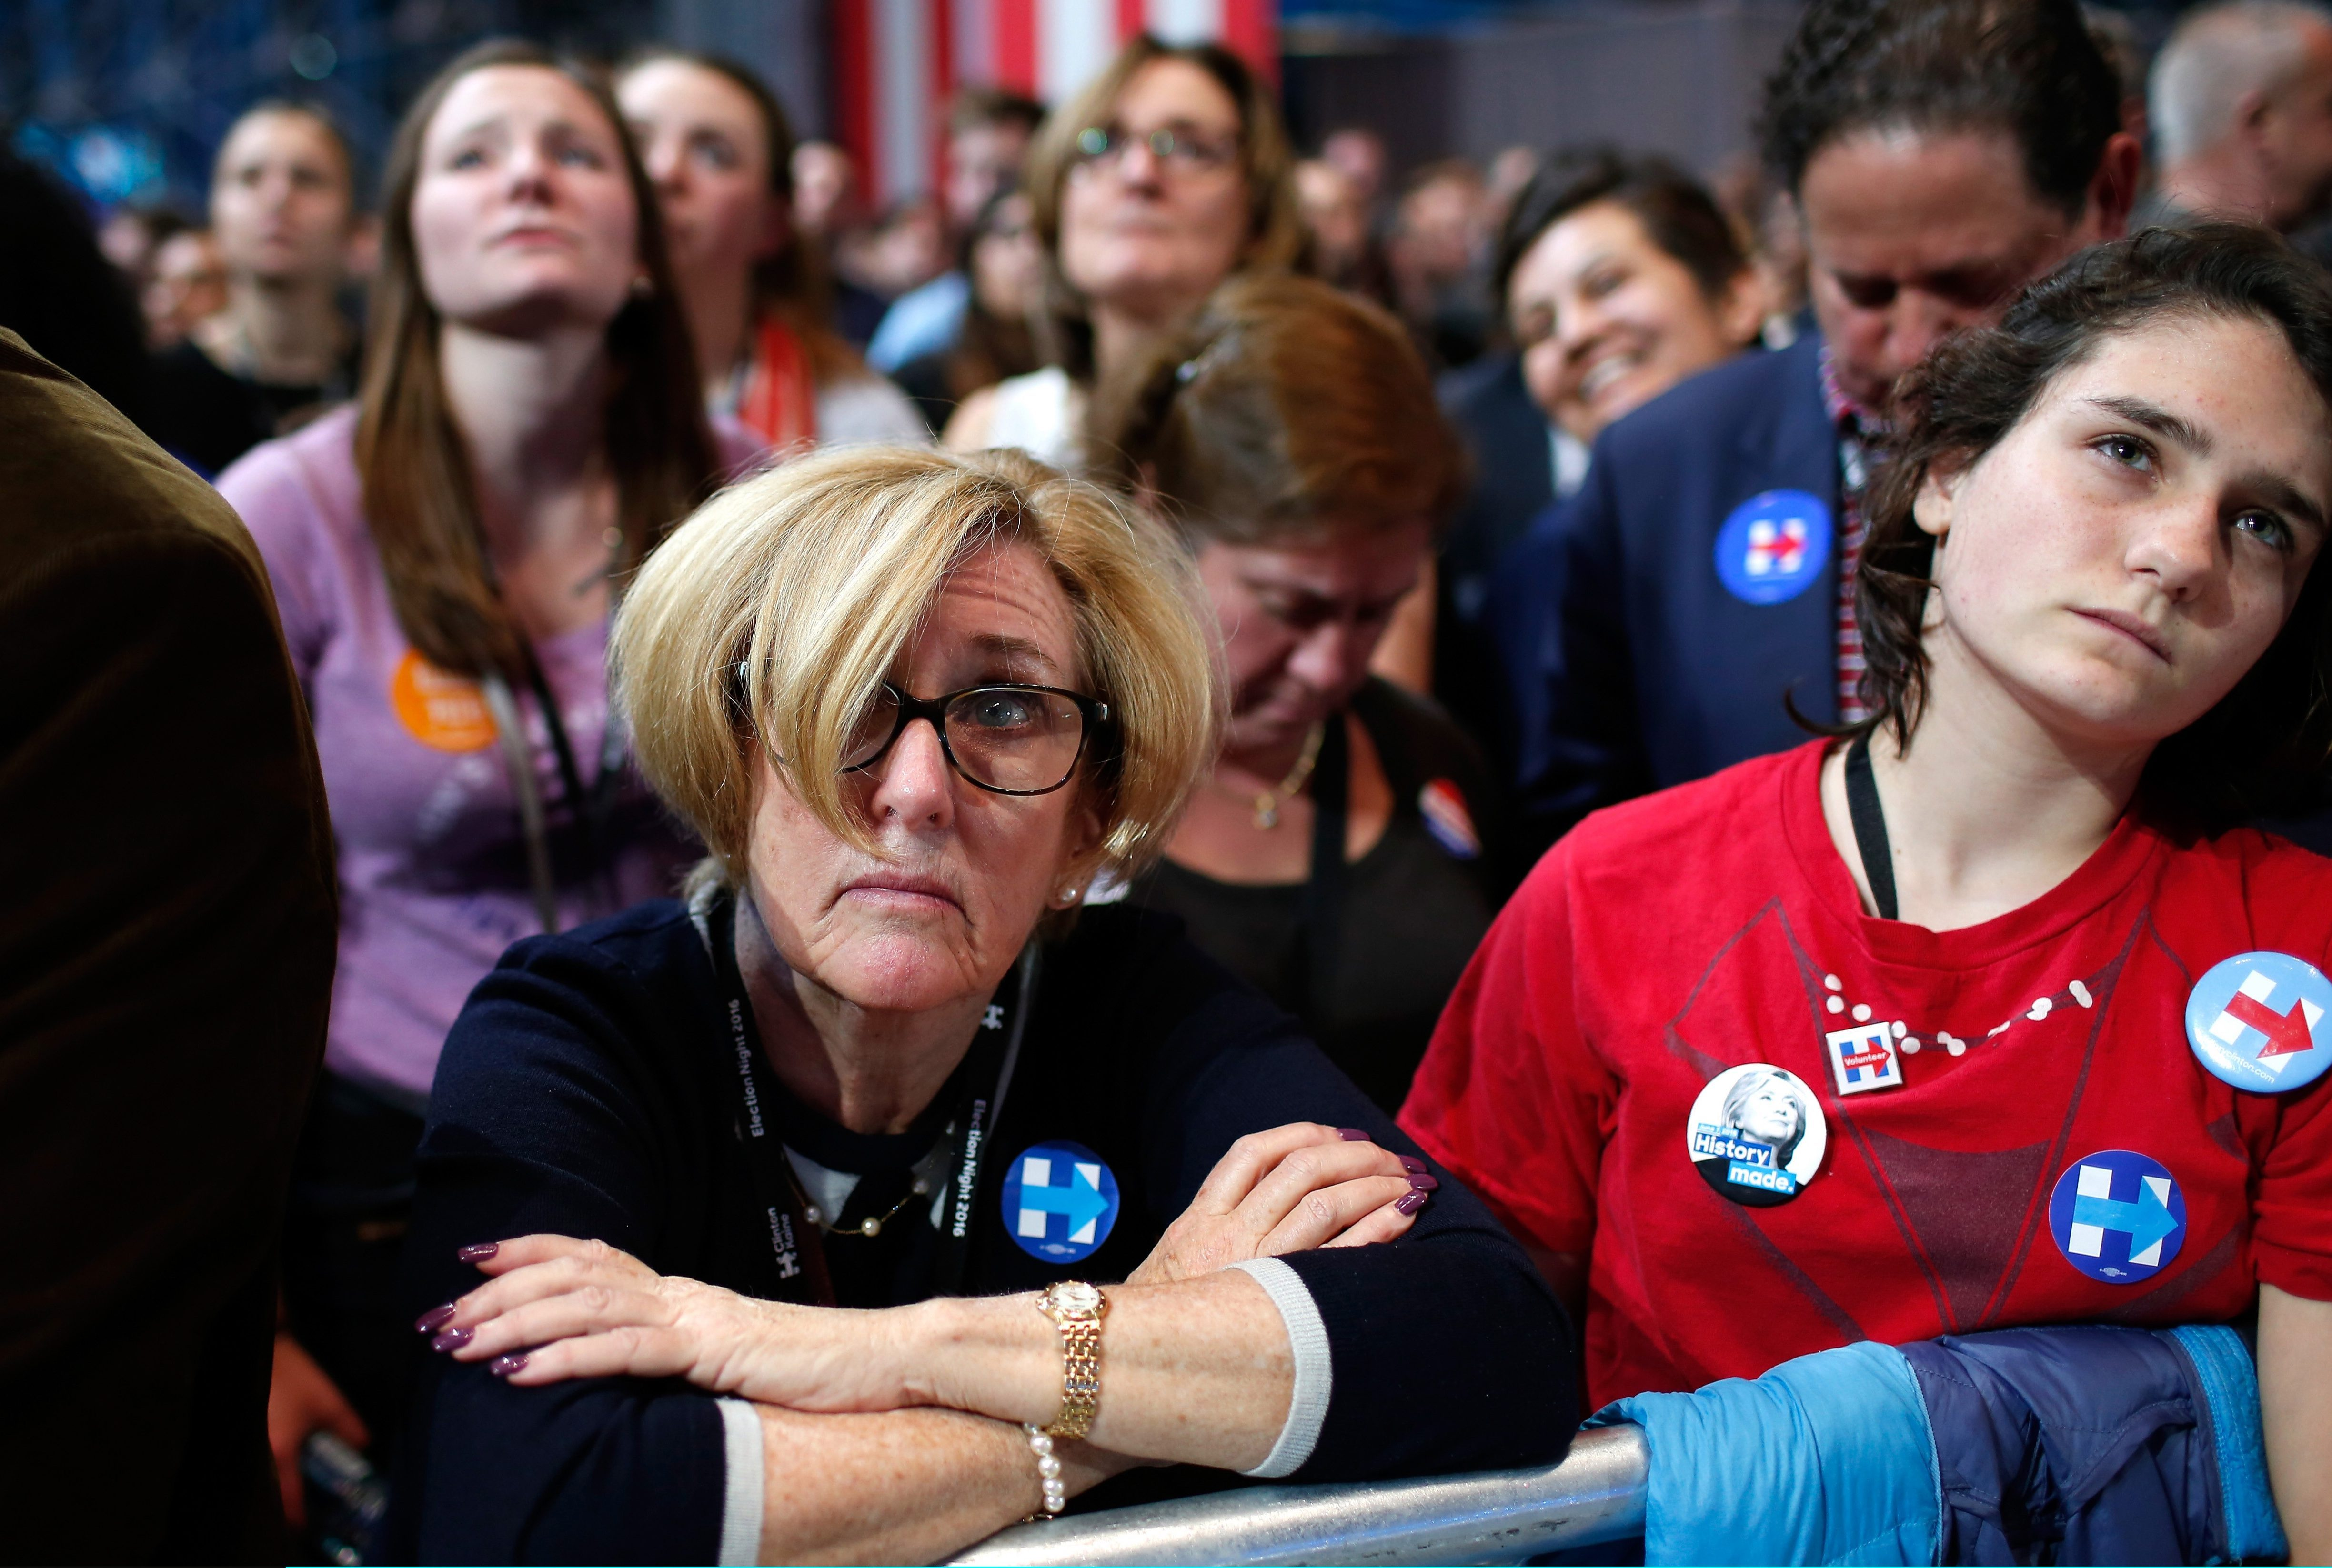sad: (733, 559, 1092, 1029), (1988, 288, 2317, 733)
